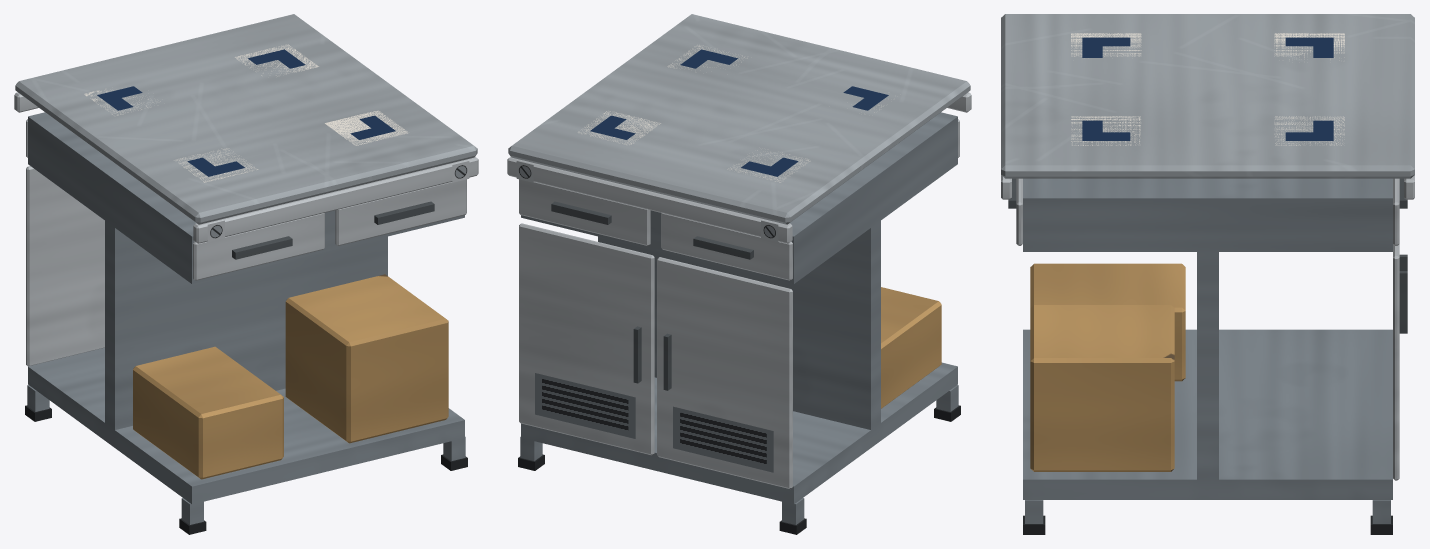
File: pass_1m.glb
The picture shows the model from 3 angles, left to right: view 1: azimuth 30°, elevation 25°; view 2: azimuth 150°, elevation 25°; view 3: azimuth 270°, elevation 25°; orthographic projection. The views are drawn at different scales.
Parts seen in each view (by area): view 1: pass_1m_body; view 2: pass_1m_body; view 3: pass_1m_body.
Part boxes in pixels (left/top/right/bottom): pass_1m_body: left=14, top=14, right=478, bottom=534; pass_1m_body: left=507, top=14, right=971, bottom=534; pass_1m_body: left=1001, top=14, right=1414, bottom=534.
Size of the model in its own units: 0.992 by 1.1 by 1.12.
Materials: 7 (6 with a texture image).
